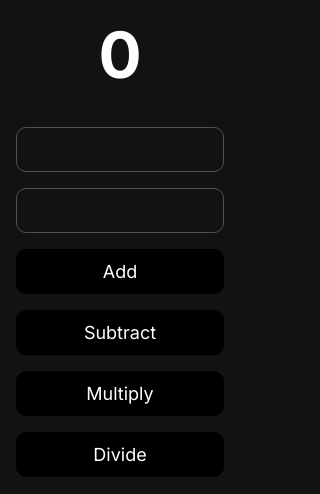
Calculator › should add numbers
The width and height of the screenshot is (320, 494).
Type "2" into the number field with test id "num1" at (120, 150), box [16, 127, 224, 172]
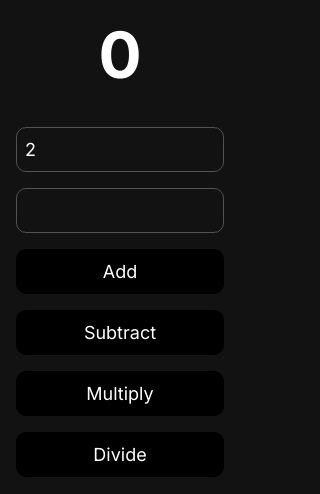
Type "2" into the number field with test id "num2" at (120, 210), box [16, 188, 224, 233]
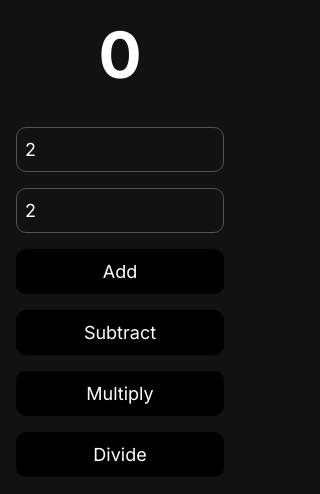
Click the button with test id "add" at (120, 272), box [16, 249, 224, 294]
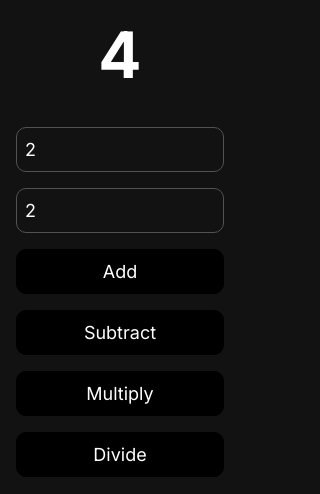
Check: the text with test id "result" reads "4", box [98, 16, 142, 93]
